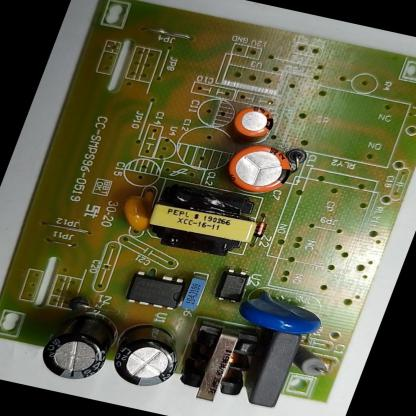Cap1: (222, 139, 298, 198)
Cap2: (228, 102, 279, 142)
Cap3: (104, 320, 189, 393)
Cap4: (33, 304, 124, 385)
MOSFET: (124, 269, 188, 313)
Mov: (234, 284, 332, 340)
Resistor: (290, 346, 334, 379)
Transformer: (138, 177, 263, 262), (171, 318, 268, 407)
